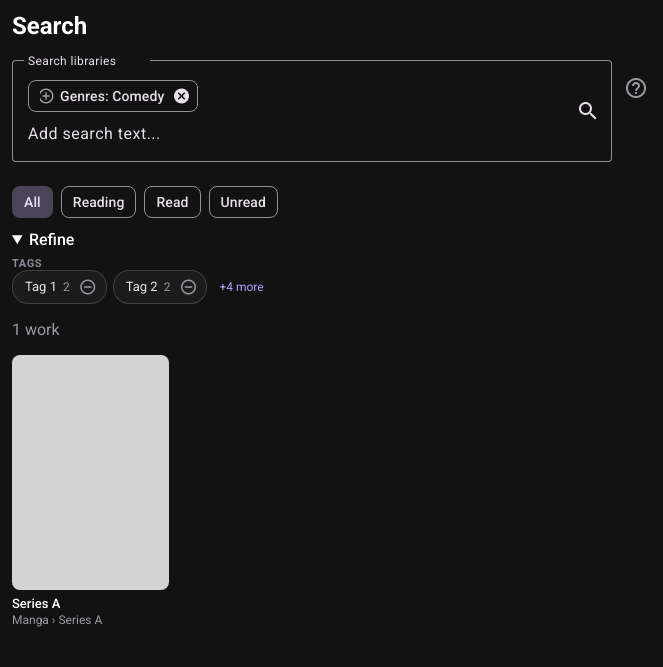
Test case: SearchComponent tag filters and work cards (1.45.0) › 1.50.0: "+N more" lists the whole bucket from one expand=tag request (a one-work page), and "Show fewer" closes it again
Click the button with test id "refine-more" showing "+4 more".
click(242, 287)  # box x1=213 y1=271 x2=270 y2=303
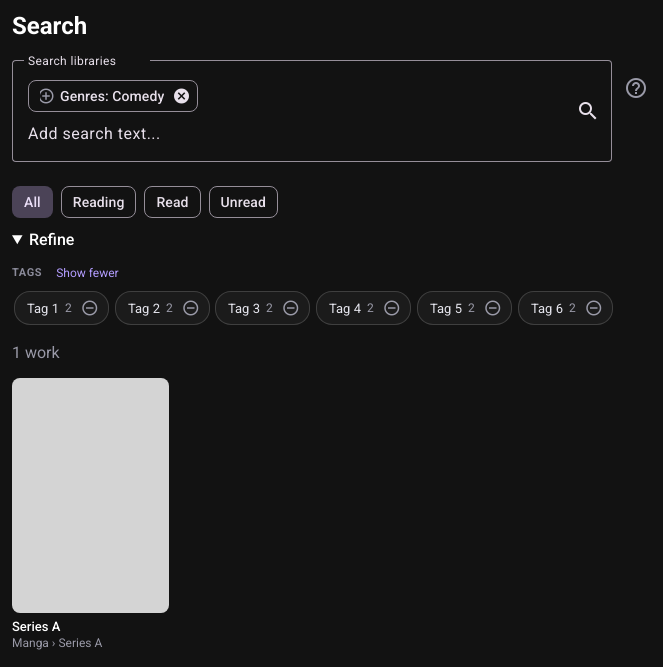
Result: the button with test id "refine-more" is gone
Click the button with test id "refine-fewer".
click(87, 273)  # box x1=50 y1=257 x2=125 y2=289
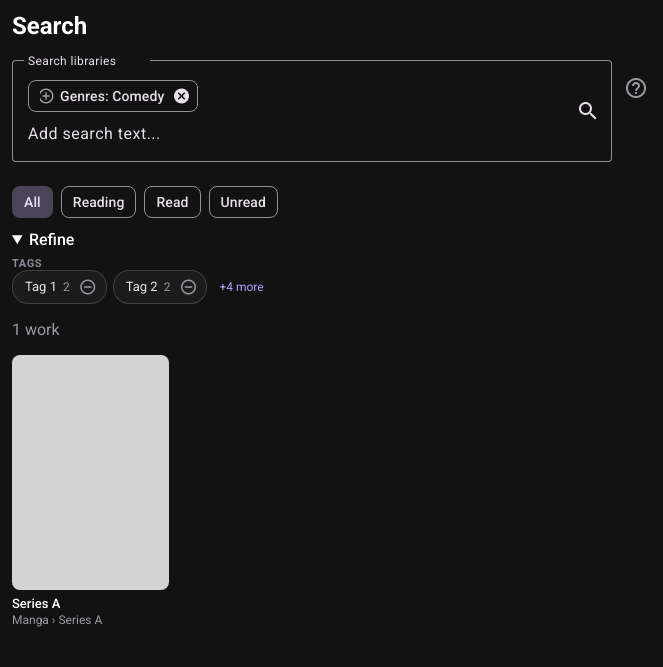
Result: the button with test id "refine-more" reads "+4 more" at x1=213 y1=271 x2=270 y2=303
Result: the button with test id "refine-fewer" is gone
